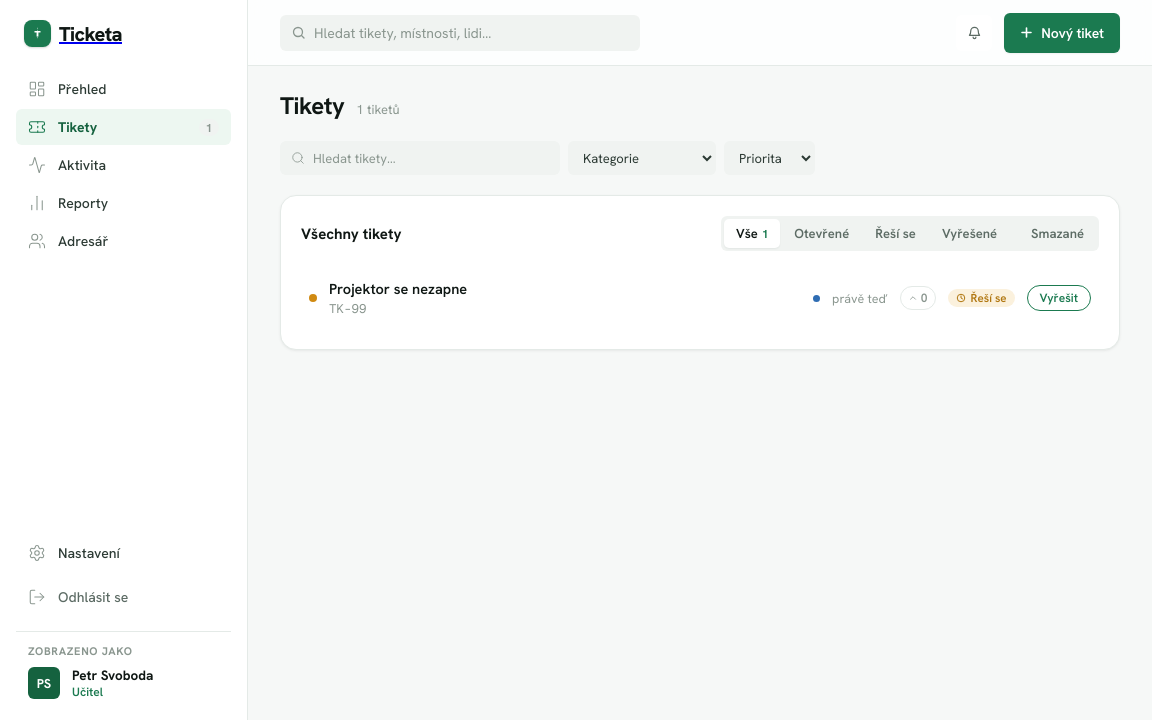
TicketsPage › opens the resolve dialog instead of mutating directly when resolving an in-progress ticket
What coordinates should you click on to do the following:
click the button "Vyřešit"
I would click on:
 (1059, 298)
Its box is x1=1026 y1=285 x2=1091 y2=311.
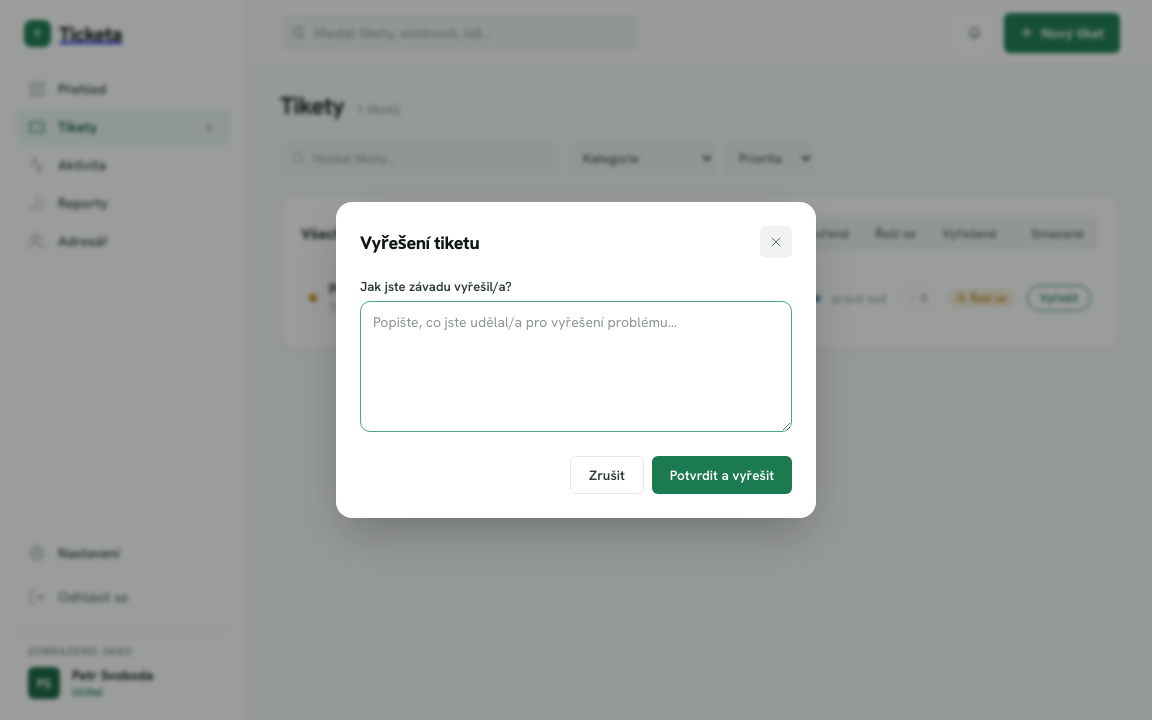
Now the dialog "Vyřešení tiketu" is shown
